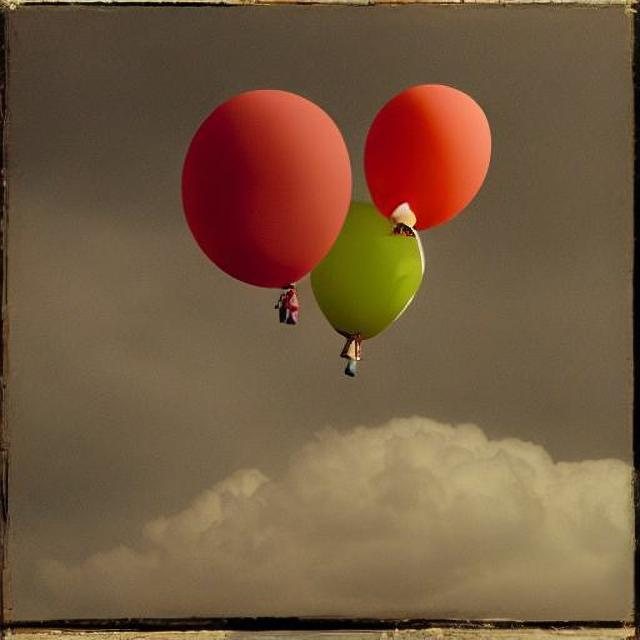balloon: (173, 82, 519, 339)
